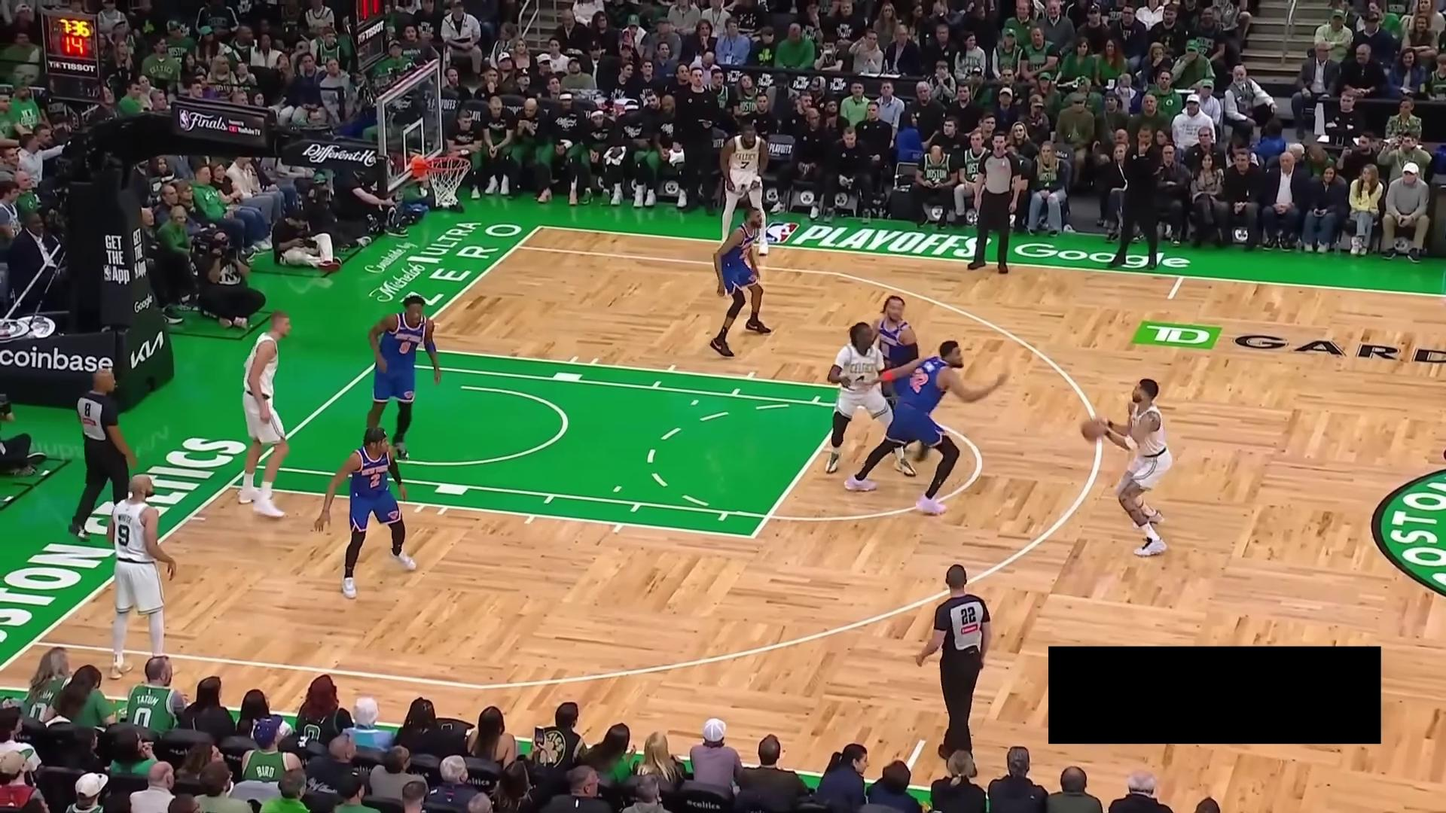ball: (1081, 417, 1106, 441)
number: (909, 367, 929, 393), (117, 523, 130, 547), (369, 472, 381, 489), (399, 340, 411, 354), (740, 160, 751, 170)
player: (845, 339, 1010, 517), (312, 422, 417, 600), (105, 473, 178, 683), (824, 322, 918, 477), (364, 294, 441, 464), (236, 310, 292, 519), (870, 295, 930, 463), (709, 206, 773, 358), (718, 122, 770, 257)
player-in-possession: (1080, 378, 1174, 557)
referee: (916, 563, 992, 781), (67, 367, 139, 541), (966, 131, 1022, 275)
rim: (426, 155, 471, 172)
